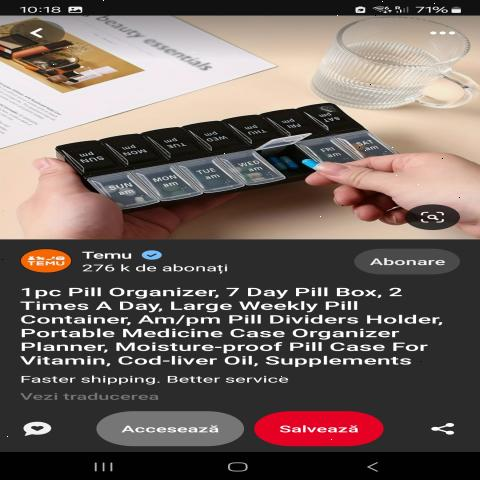PillBox: (35, 97, 406, 211)
